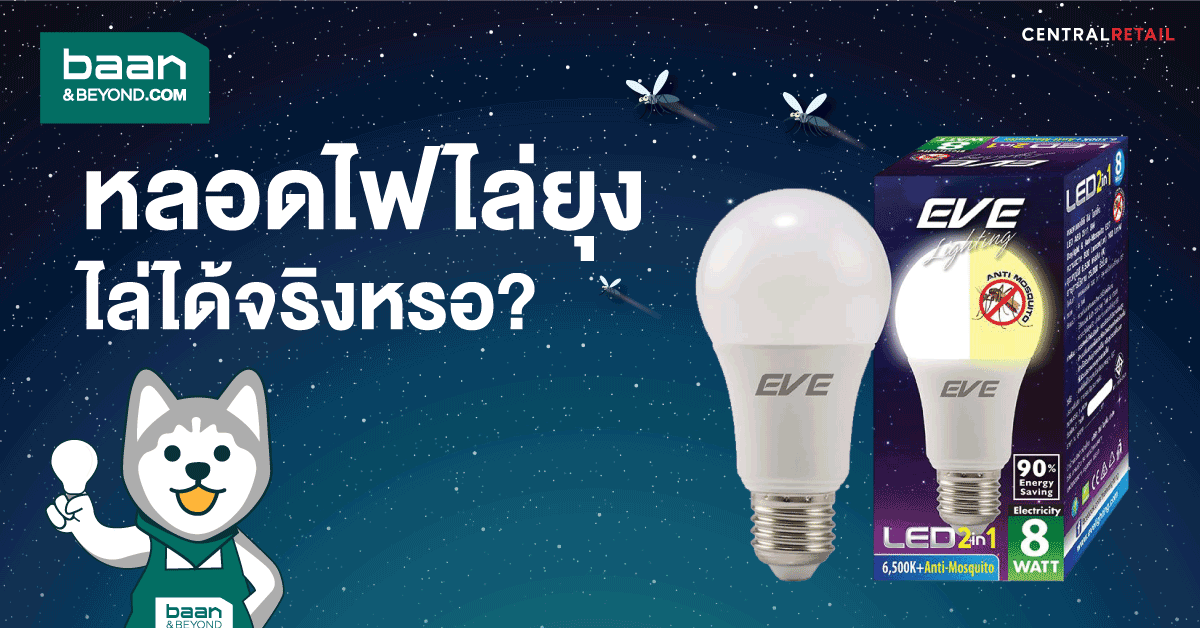Light_bulb: (686, 179, 899, 591)
